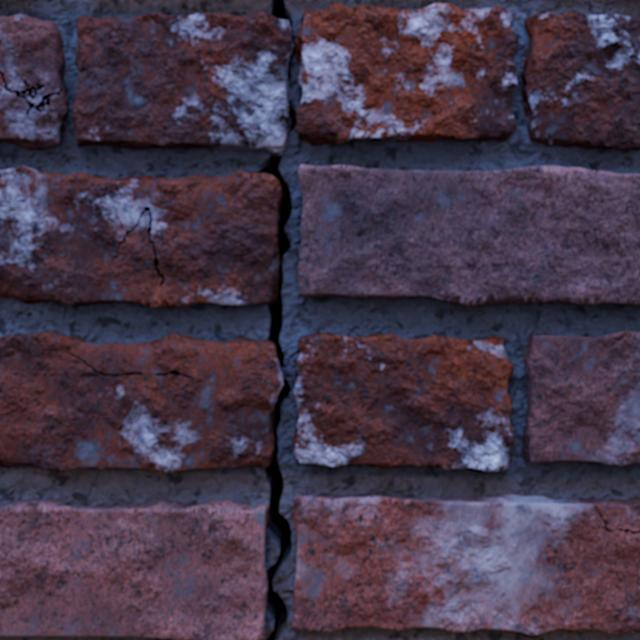crack: (0, 0, 518, 639), (292, 494, 639, 635), (296, 165, 639, 307), (293, 332, 514, 471), (521, 10, 639, 150), (522, 330, 639, 466), (0, 14, 68, 149)
